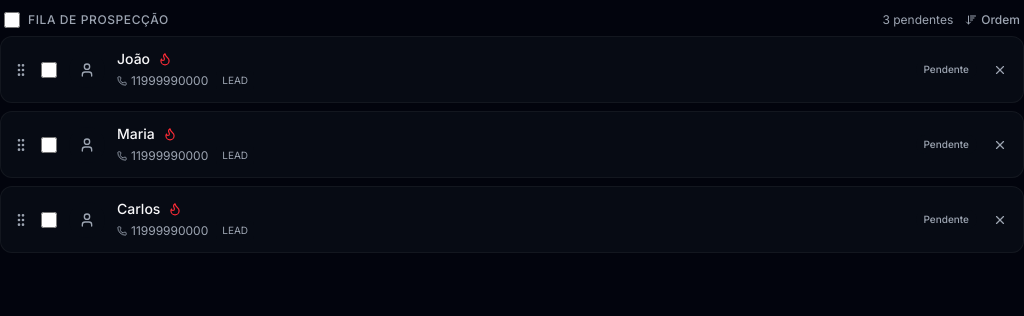
Test: CallQueue — batch selection (CP-4.5) › selecionar todos marca todos os checkboxes individuais
The image size is (1024, 316).
Click the checkbox named "Selecionar todos" at [12, 20], box [4,12,20,28]
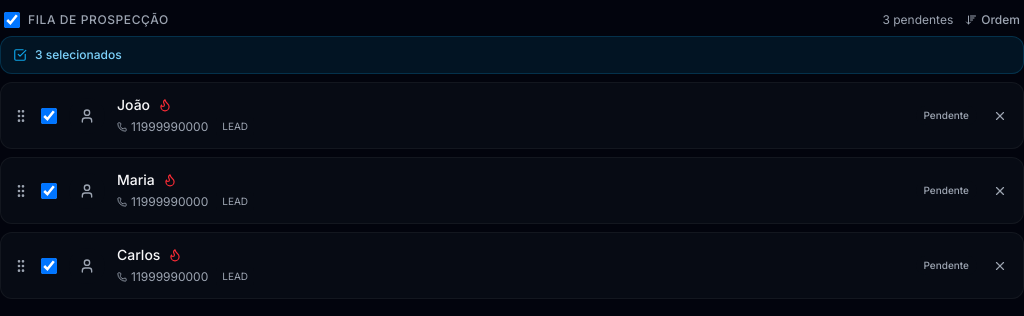
Check: the checkbox named "Desmarcar todos" is checked, box [4,12,20,28]
Check: the checkbox named "Selecionar João" is checked, box [41,108,57,124]
Check: the checkbox named "Selecionar Maria" is checked, box [41,182,57,198]
